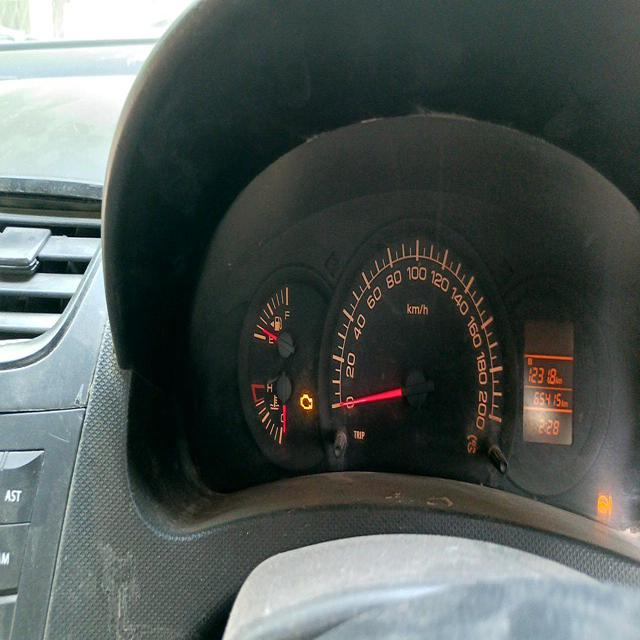odometer: (532, 387, 564, 409)
